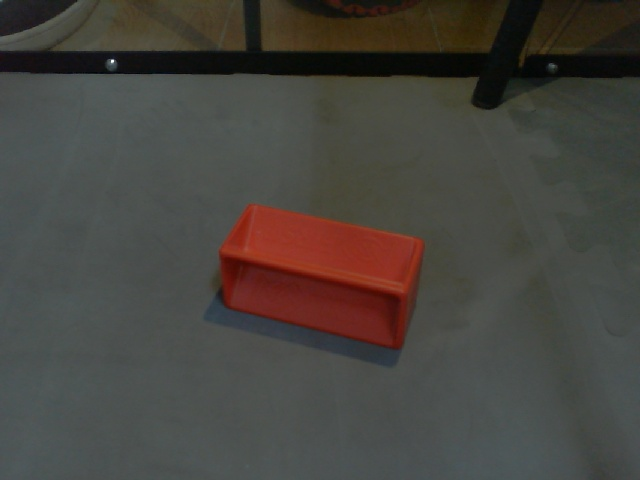RedSample: (214, 202, 427, 355)
